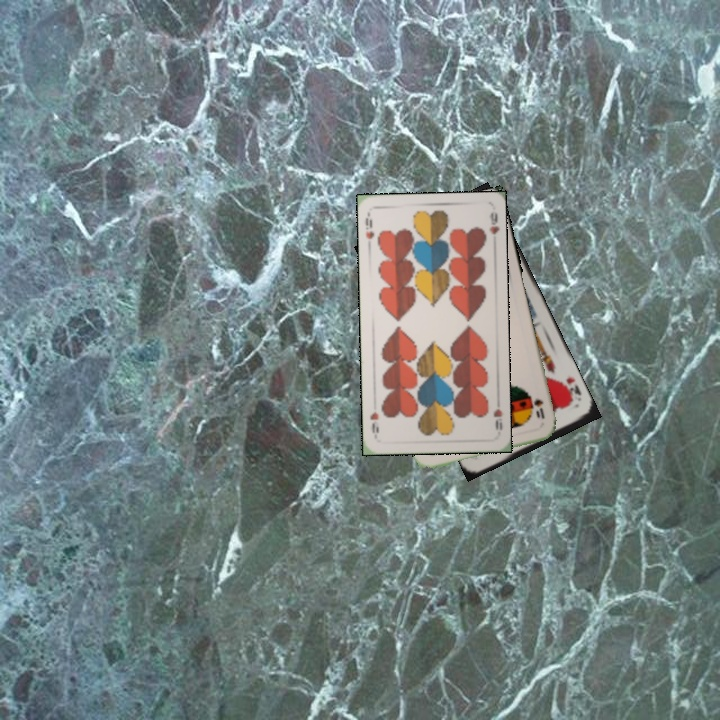H9: (489, 395, 506, 432), (361, 214, 377, 241)
HK: (558, 373, 584, 404)
SO: (526, 391, 547, 421)
